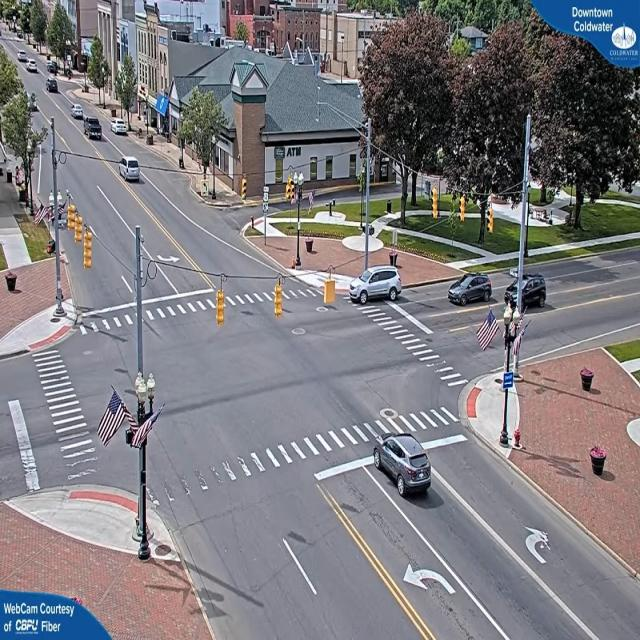car: (373, 433, 432, 498), (351, 265, 401, 305), (447, 274, 493, 308), (524, 276, 550, 310), (118, 156, 142, 182), (84, 118, 103, 140), (112, 119, 130, 138), (70, 106, 84, 122), (17, 50, 32, 64), (48, 79, 61, 95), (25, 58, 39, 72)
